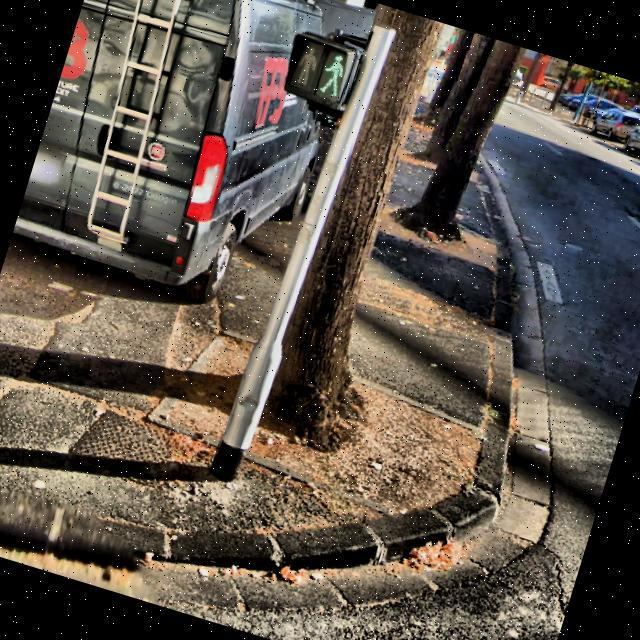green_light: (312, 43, 352, 100)
